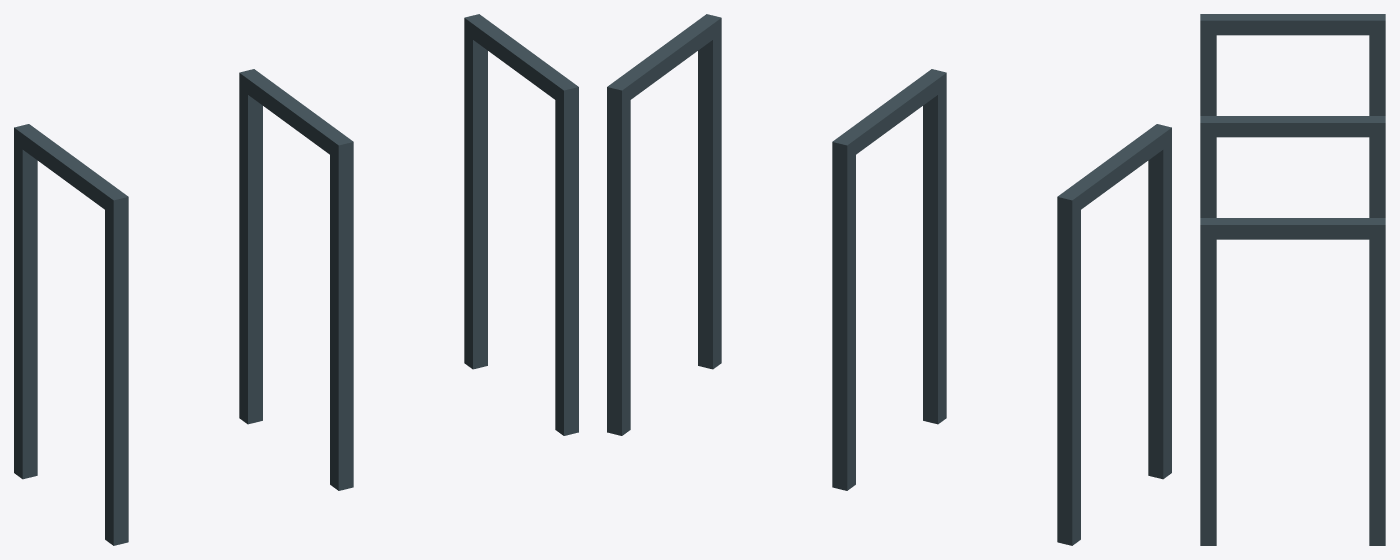
Rendered from bicycle_rack.glb.
The picture shows the model from 3 angles, left to right: view 1: azimuth 30°, elevation 25°; view 2: azimuth 150°, elevation 25°; view 3: azimuth 270°, elevation 25°; orthographic projection. The views are drawn at different scales.
Parts seen in each view (by area): view 1: bicycle_rack; view 2: bicycle_rack; view 3: bicycle_rack.
Boxes of the visible parts, x1,y1,x2,y2 form: bicycle_rack: (14, 14, 578, 545); bicycle_rack: (607, 14, 1171, 545); bicycle_rack: (1200, 14, 1385, 545).
Bounding box in the file's own units: 1.24 × 0.88 × 0.46.
